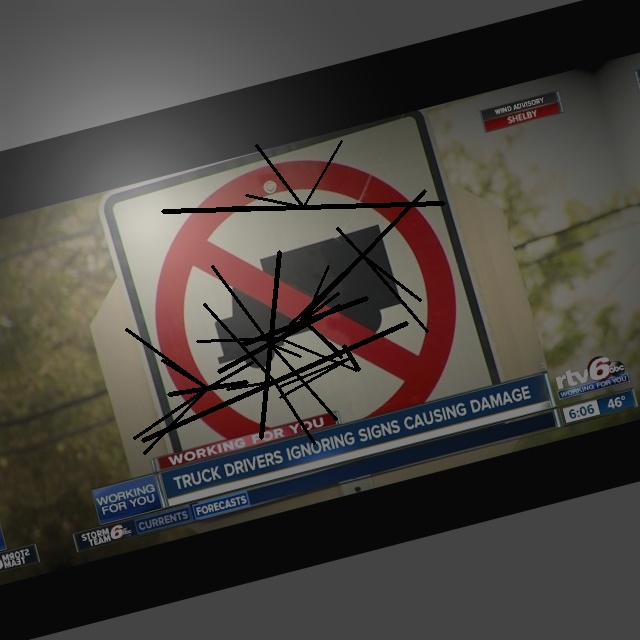Truck_Prohibited: (126, 133, 477, 449)
